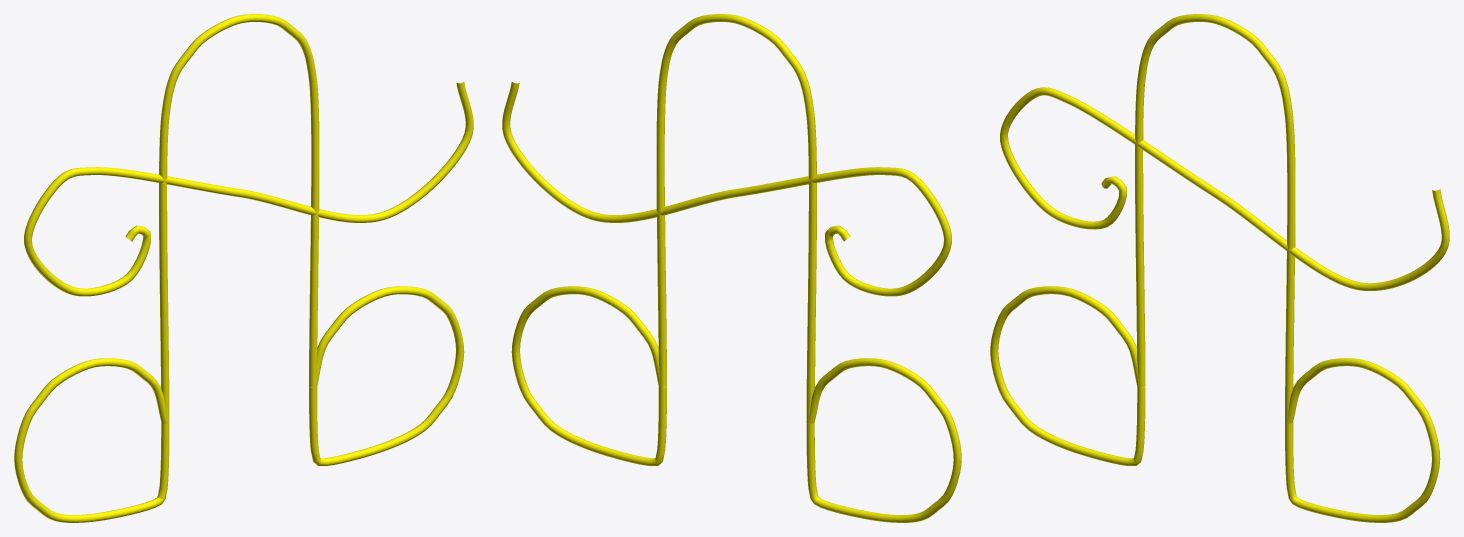
3 views of the same model, side by side, from view 1: azimuth 30°, elevation 25°; view 2: azimuth 150°, elevation 25°; view 3: azimuth 330°, elevation 25° (orthographic).
Parts seen in each view (by area): view 1: Tube (×2); view 2: Tube (×2); view 3: Tube (×2).
Part boxes in pixels (<box>): Tube (×2): <box>14,14,473,522</box>; Tube (×2): <box>502,14,961,522</box>; Tube (×2): <box>990,14,1449,522</box>.
Bounding box in the file's own units: 6.23 × 6.13 × 0.1.
